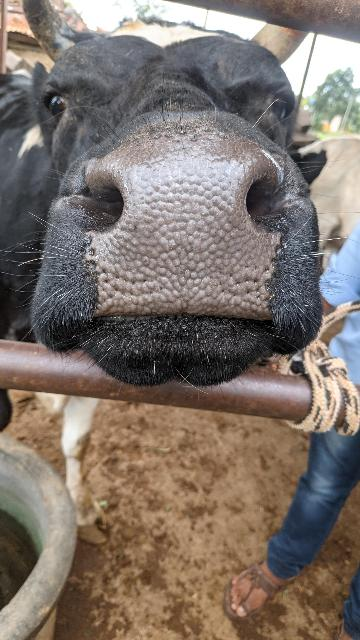Muzzle: (99, 150, 279, 320)
